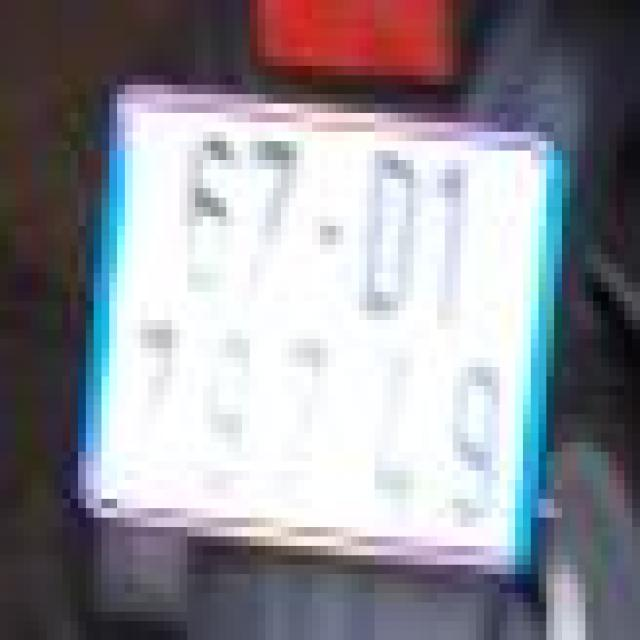1: (421, 146, 484, 343)
4: (355, 339, 425, 536)
6: (168, 122, 238, 302)
7: (238, 122, 301, 302), (269, 330, 324, 508), (121, 311, 176, 480)
9: (441, 353, 519, 541), (195, 320, 258, 499)
D: (348, 132, 418, 329)
